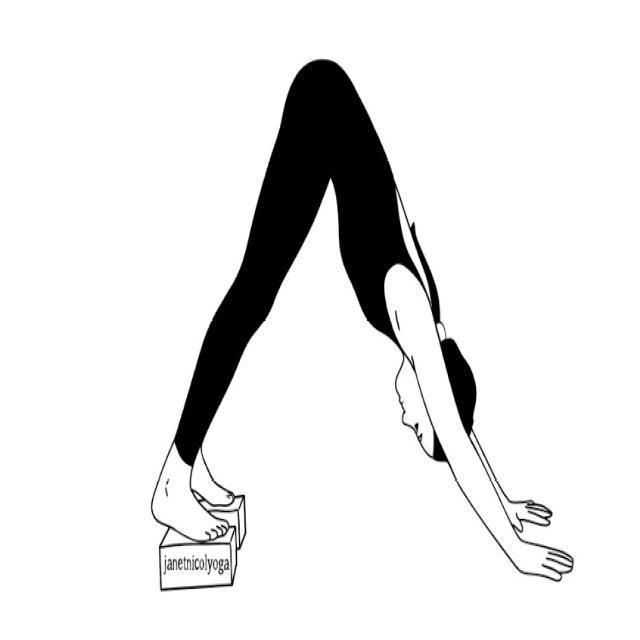Downward-Facing_Dog: (142, 57, 582, 592)
